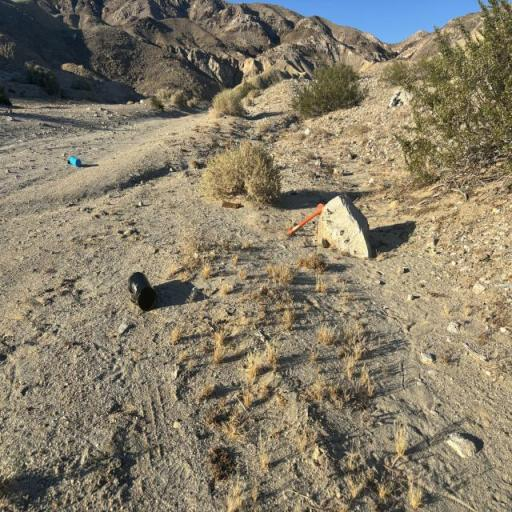bottle: (127, 273, 157, 314), (64, 150, 86, 170)
mallet: (283, 196, 327, 243)
